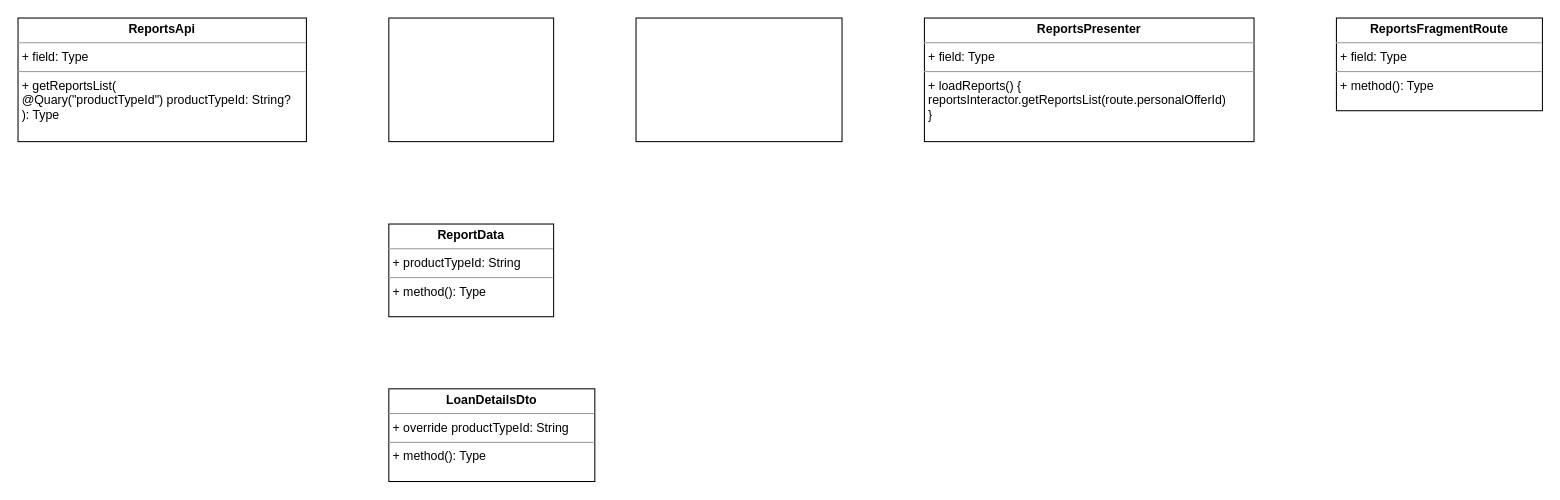
The diagram is 1560 pixels wide and 500 high, and some of its shapes have lost their labels. Here are the shapes that lost their labels. From the top down, the box of each, then its label:
(388, 17, 554, 142): ReportsRepository + field: Type + getReportsList( productTypeId: String? ): Type
(635, 17, 842, 142): ReportsInteractor + field: Type + getReportsList( productTypeId: String? ): Type
